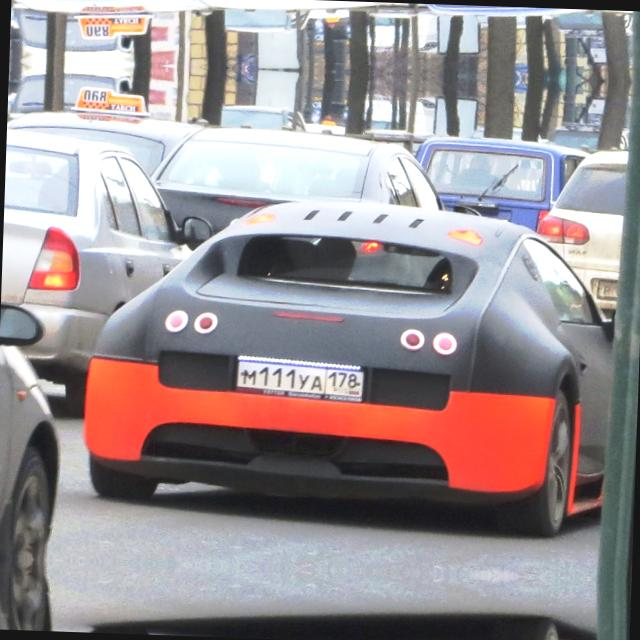citizen: (228, 350, 376, 405)
